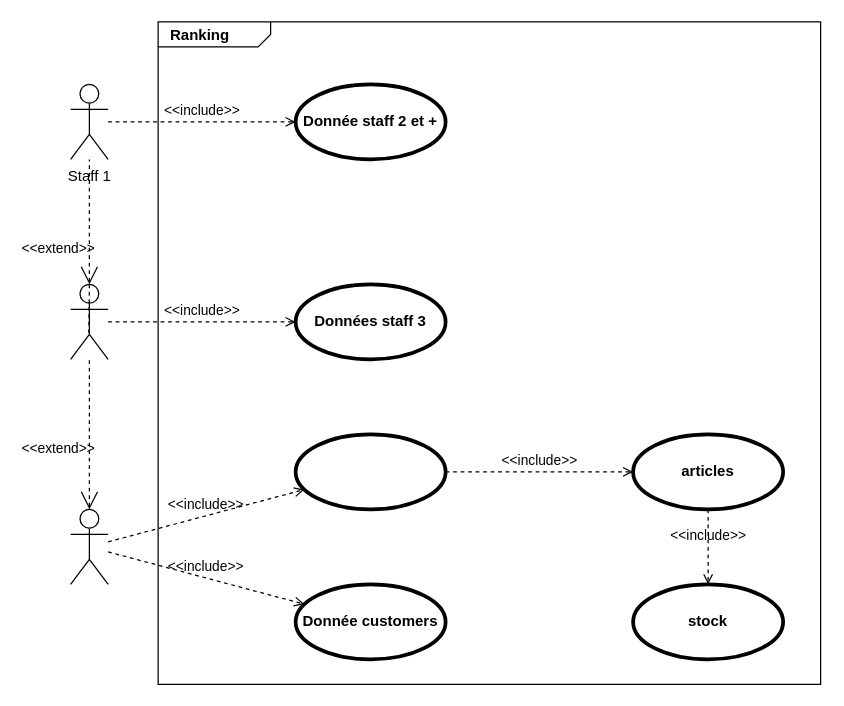
Image size: 844x706. Some labels were removed from this diagram. The shapes that lost their labels are listed below. From the top down, each one's centre as x and y in pixels, then its label:
At (x=88, y=321): "Staff 2".
At (x=370, y=471): "commande".
At (x=88, y=546): "Staff 3".
